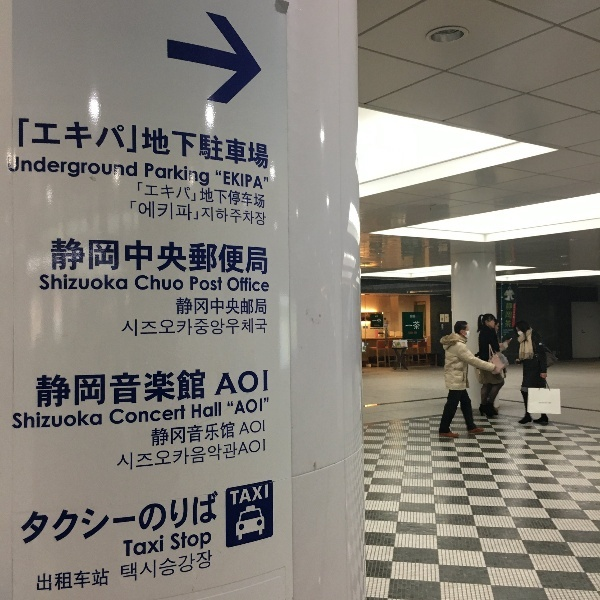text: (33, 492, 48, 547), (49, 492, 64, 547), (65, 492, 80, 547), (81, 492, 96, 547), (97, 492, 112, 547), (113, 492, 128, 547), (129, 492, 144, 547), (145, 492, 160, 547), (161, 492, 176, 547), (177, 492, 192, 547), (193, 492, 208, 547), (145, 124, 160, 172), (161, 124, 176, 172), (177, 124, 192, 172), (193, 124, 208, 172), (209, 124, 224, 172), (225, 124, 240, 172), (241, 124, 256, 172), (49, 368, 64, 409), (65, 368, 80, 409), (81, 368, 96, 409), (97, 368, 112, 409), (113, 368, 128, 409), (129, 368, 144, 409), (145, 368, 160, 409), (161, 368, 176, 409), (177, 368, 192, 409), (193, 368, 208, 409), (209, 492, 220, 547), (49, 237, 64, 277), (65, 237, 80, 277), (81, 237, 96, 277), (97, 237, 112, 277), (113, 237, 128, 277), (129, 237, 144, 277), (145, 237, 160, 277), (161, 237, 176, 277), (177, 237, 192, 277), (193, 237, 208, 277), (209, 237, 224, 277), (225, 237, 240, 277), (241, 237, 256, 277), (22, 492, 32, 547), (129, 550, 144, 586), (145, 550, 160, 586), (161, 550, 176, 586), (177, 550, 192, 586), (193, 550, 208, 586), (35, 368, 48, 409), (257, 124, 268, 172), (33, 120, 48, 154), (49, 120, 64, 154), (65, 120, 80, 154), (81, 120, 96, 154), (97, 120, 112, 154), (129, 439, 144, 471), (145, 439, 160, 471), (161, 439, 176, 471), (177, 439, 192, 471), (193, 439, 208, 471), (209, 439, 224, 471), (225, 439, 240, 471), (241, 439, 256, 471), (113, 120, 126, 154), (257, 237, 267, 277), (49, 567, 64, 593), (65, 567, 80, 593), (81, 567, 96, 593), (161, 422, 176, 448), (177, 422, 192, 448), (193, 422, 208, 448), (209, 422, 224, 448), (241, 484, 256, 509), (209, 185, 224, 209), (225, 185, 240, 209), (241, 185, 256, 209), (177, 532, 192, 556), (193, 532, 208, 556), (117, 439, 128, 471), (145, 162, 160, 185), (161, 162, 176, 185), (177, 162, 192, 185), (193, 162, 208, 185), (225, 170, 240, 193), (241, 170, 256, 193), (113, 404, 128, 427), (129, 404, 144, 427), (145, 404, 160, 427), (161, 404, 176, 427), (35, 567, 48, 593), (225, 422, 238, 448), (129, 536, 144, 558), (145, 536, 160, 558), (17, 156, 32, 178), (33, 156, 48, 178), (49, 156, 64, 178), (65, 156, 80, 178), (81, 156, 96, 178), (97, 156, 112, 178), (113, 156, 128, 178), (17, 409, 32, 430), (33, 409, 48, 430), (49, 409, 64, 430), (65, 409, 80, 430), (81, 409, 96, 430), (241, 396, 256, 417), (97, 567, 109, 593), (177, 202, 193, 221), (129, 316, 144, 336), (145, 316, 160, 336), (161, 316, 176, 336), (177, 316, 192, 336), (193, 316, 208, 336), (209, 316, 224, 336), (225, 316, 240, 336), (241, 316, 256, 336), (177, 297, 192, 317), (193, 297, 208, 317), (209, 297, 224, 317), (225, 297, 240, 317), (241, 297, 256, 317), (257, 484, 269, 509), (257, 439, 266, 471), (120, 550, 128, 586), (145, 202, 160, 221), (161, 202, 176, 221), (193, 402, 208, 421), (257, 170, 269, 193), (229, 484, 240, 509), (227, 396, 240, 417), (257, 396, 270, 417), (113, 274, 129, 291), (209, 208, 224, 226), (225, 208, 240, 226), (241, 208, 256, 226), (145, 274, 160, 292), (161, 274, 176, 292), (241, 276, 256, 294), (209, 402, 223, 421), (197, 185, 208, 209), (150, 422, 160, 448), (177, 185, 193, 201), (49, 274, 64, 291), (65, 274, 80, 291), (81, 274, 96, 291), (97, 274, 112, 291), (257, 297, 269, 317), (145, 185, 160, 201), (161, 185, 176, 201), (193, 276, 208, 292), (257, 276, 270, 294), (177, 404, 187, 427), (209, 276, 223, 292), (209, 550, 215, 586), (228, 276, 240, 294), (257, 316, 267, 336), (129, 156, 138, 178), (257, 185, 265, 209), (257, 208, 267, 226), (8, 156, 16, 178), (135, 274, 144, 292), (217, 170, 224, 193), (121, 316, 128, 336), (40, 274, 48, 291), (177, 274, 184, 292), (97, 409, 103, 430), (507, 303, 512, 328), (171, 532, 176, 556), (202, 208, 208, 226), (29, 120, 32, 154), (406, 321, 416, 331), (142, 124, 144, 172), (124, 536, 128, 558), (12, 409, 16, 430), (140, 202, 144, 221), (209, 532, 212, 556), (109, 404, 112, 427), (373, 318, 384, 324), (161, 536, 164, 558), (209, 162, 211, 185), (174, 297, 176, 317), (190, 276, 192, 292), (417, 321, 420, 331), (409, 315, 416, 319), (545, 401, 551, 405), (409, 332, 416, 335), (539, 401, 544, 405), (191, 402, 192, 421), (143, 185, 144, 201)
